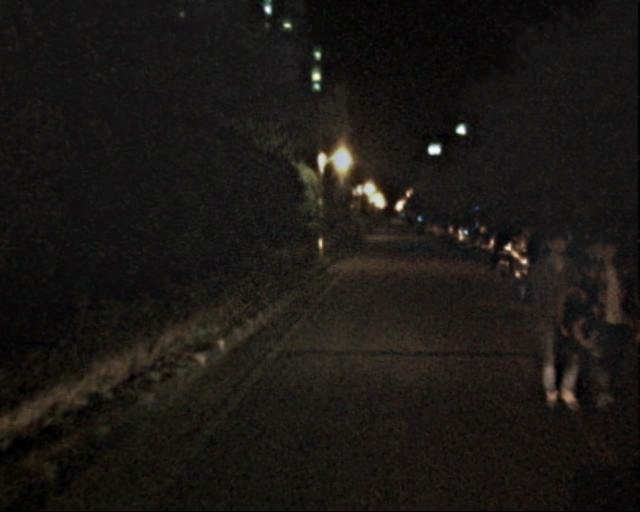person: (514, 236, 593, 412), (561, 242, 640, 413), (554, 227, 586, 305)
